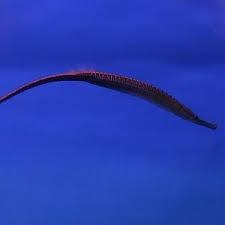Long-Snouted Pipefish: (1, 68, 225, 131)
